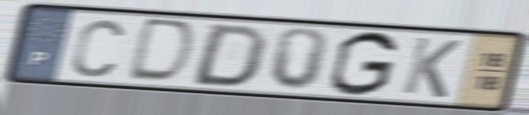0: (267, 26, 332, 93)
C: (68, 16, 127, 79)
D: (187, 22, 272, 89), (123, 16, 200, 87)
G: (326, 29, 401, 98)
K: (399, 34, 465, 101)
